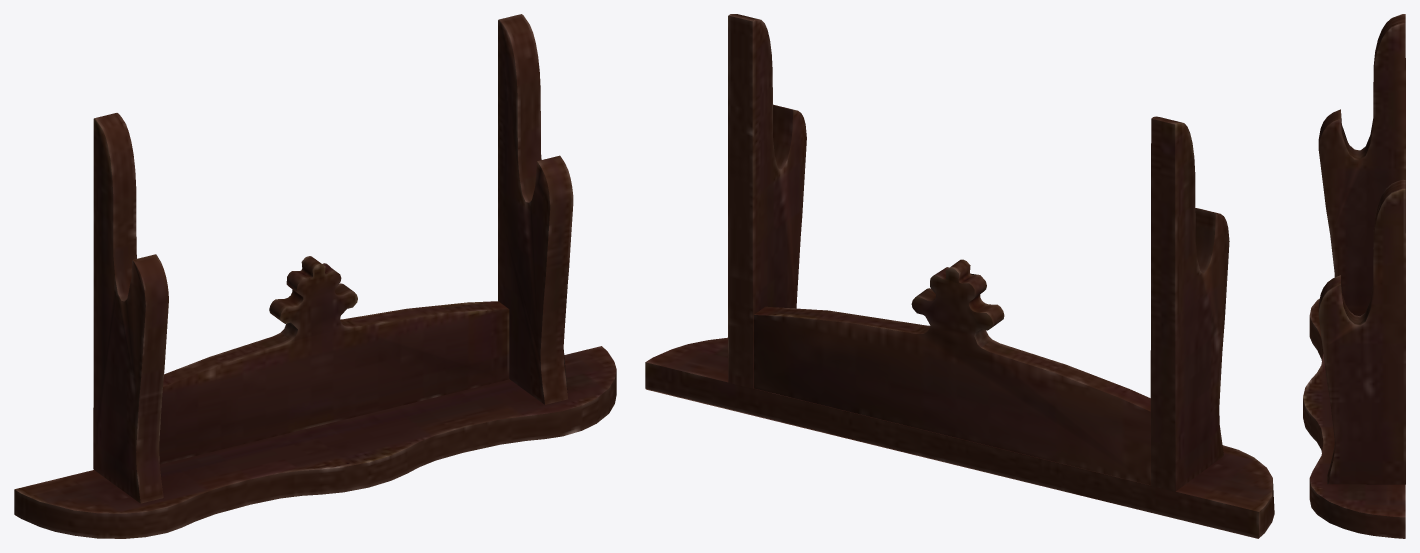
The model's file is stand-katana.lite.7c89b8fd.glb.
The picture shows the model from 3 angles, left to right: view 1: azimuth 30°, elevation 25°; view 2: azimuth 150°, elevation 25°; view 3: azimuth 270°, elevation 25°; orthographic projection. The views are drawn at different scales.
Parts seen in each view (by area): view 1: model; view 2: model; view 3: model.
Boxes of the visible parts, box(x1,y1,x2,y2) form: model: box(14, 14, 616, 538); model: box(645, 14, 1274, 538); model: box(1303, 14, 1405, 538).
Size of the model in its own units: 0.2958 by 0.1818 by 0.0534.
1 material, 1 textured.
